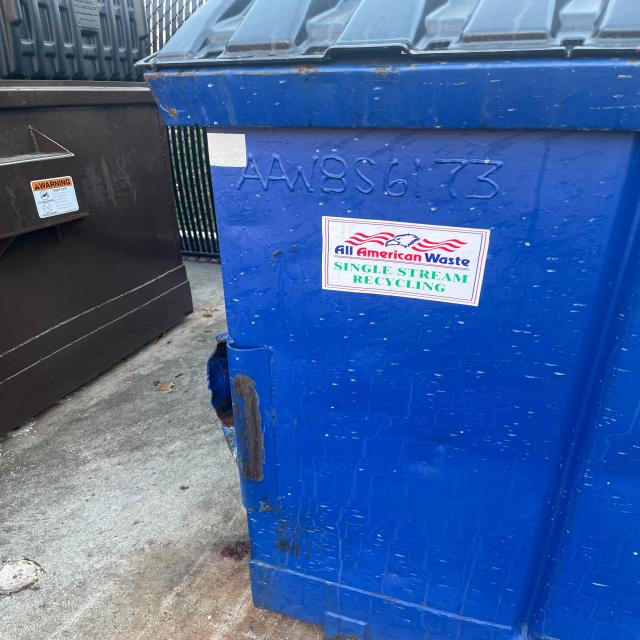Filiform Corrosion: (232, 366, 270, 487)
